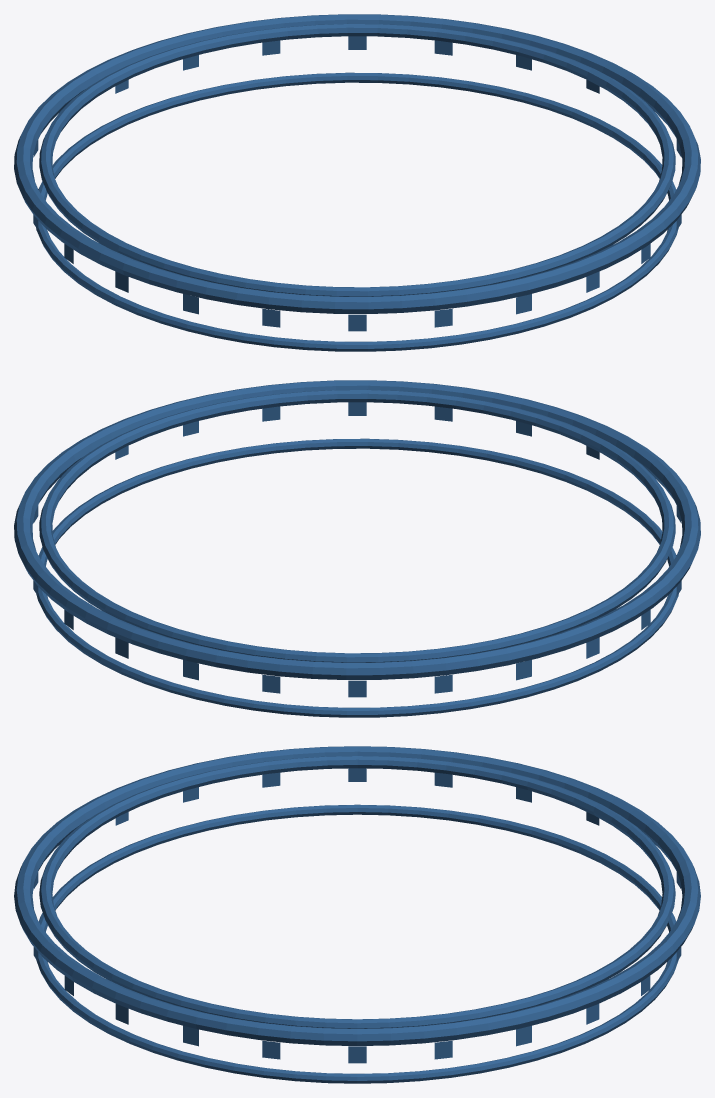
File: FOOD_pho_bowl_pattern_blue.glb
The picture shows the model from 3 angles, top to bottom: view 1: azimuth 30°, elevation 25°; view 2: azimuth 150°, elevation 25°; view 3: azimuth 270°, elevation 25°; orthographic projection.
Parts seen in each view (by area): view 1: BowlPatternBlue; view 2: BowlPatternBlue; view 3: BowlPatternBlue.
Boxes of the visible parts, x1,y1,x2,y2 form: BowlPatternBlue: [14, 14, 700, 351]; BowlPatternBlue: [14, 380, 700, 717]; BowlPatternBlue: [14, 746, 700, 1083].
Size of the model in its own units: 0.518 by 0.051 by 0.518.
